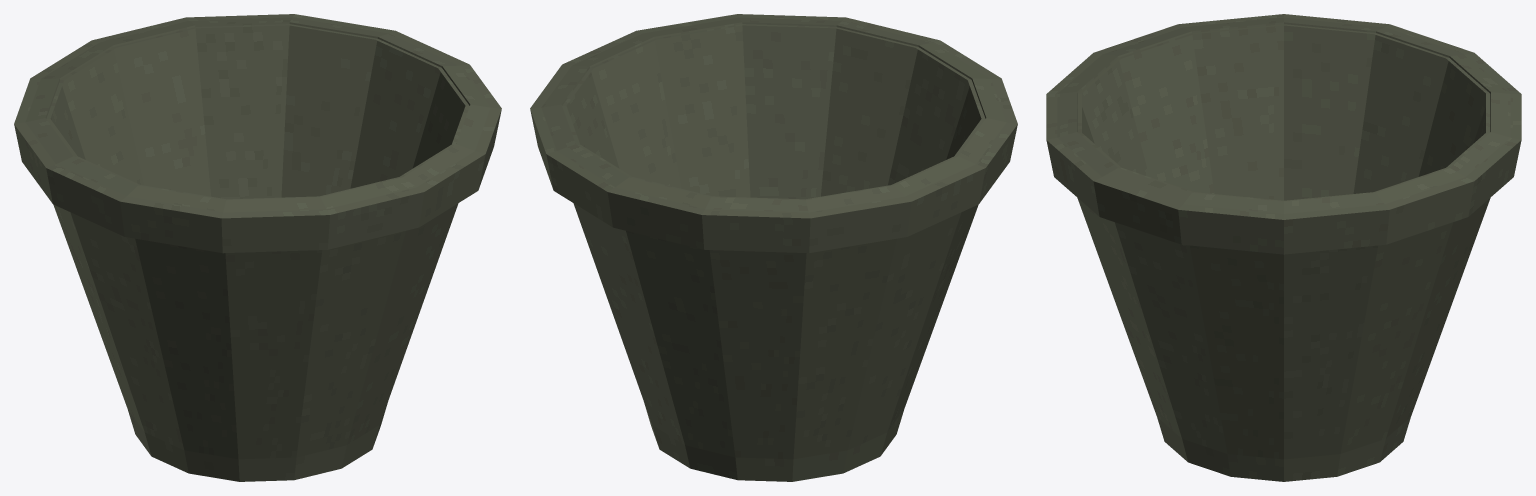
Rendered from plastic_pot_flower.glb.
3 renders of one model, left to right at view 1: azimuth 30°, elevation 25°; view 2: azimuth 150°, elevation 25°; view 3: azimuth 270°, elevation 25°, orthographic.
Parts seen in each view (by area): view 1: block_open vessel, block_rolled flowerpot lip; view 2: block_open vessel, block_rolled flowerpot lip; view 3: block_open vessel, block_rolled flowerpot lip.
Boxes of the visible parts, box(x1,y1,x2,y2) form: block_open vessel: box(25, 17, 490, 481); block_rolled flowerpot lip: box(14, 14, 501, 253); block_open vessel: box(541, 17, 1006, 481); block_rolled flowerpot lip: box(530, 14, 1017, 253); block_open vessel: box(1057, 17, 1510, 481); block_rolled flowerpot lip: box(1046, 14, 1521, 254).
Size of the model in its own units: 0.2552 by 0.1837 by 0.2488.
Materials: 1 (1 with a texture image).
